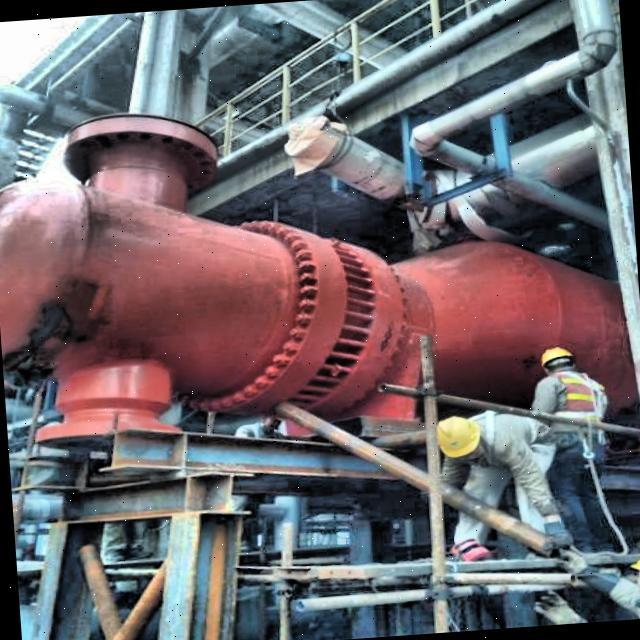helmet: (430, 410, 480, 462), (534, 344, 578, 386), (628, 543, 640, 605)
